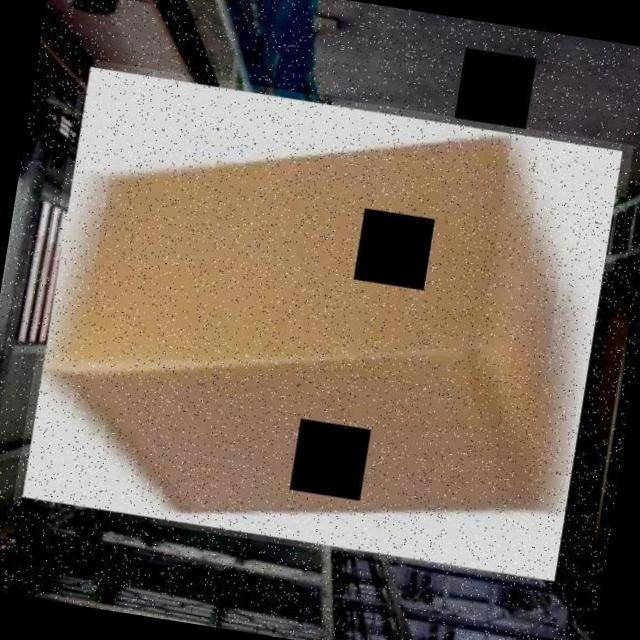box: (13, 58, 634, 589)
